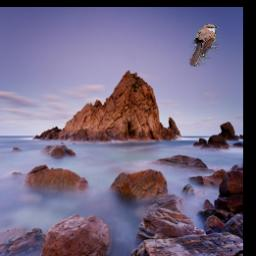Cuckoo: (189, 25, 219, 68)
